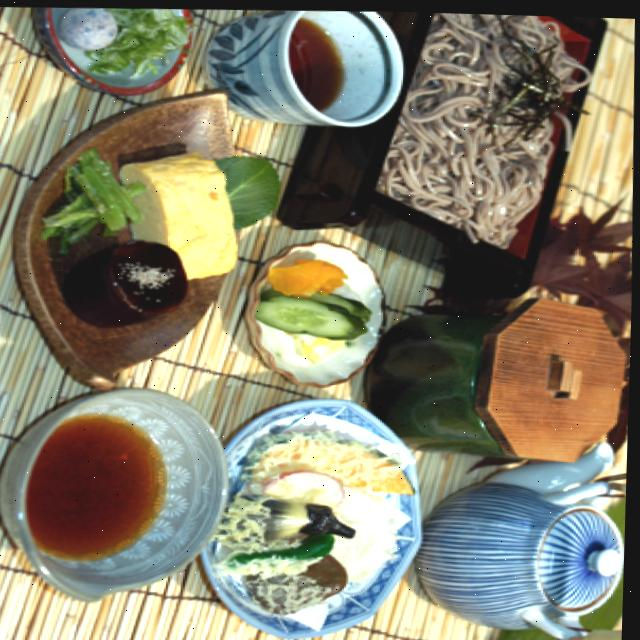面条主食: (269, 6, 639, 298)
